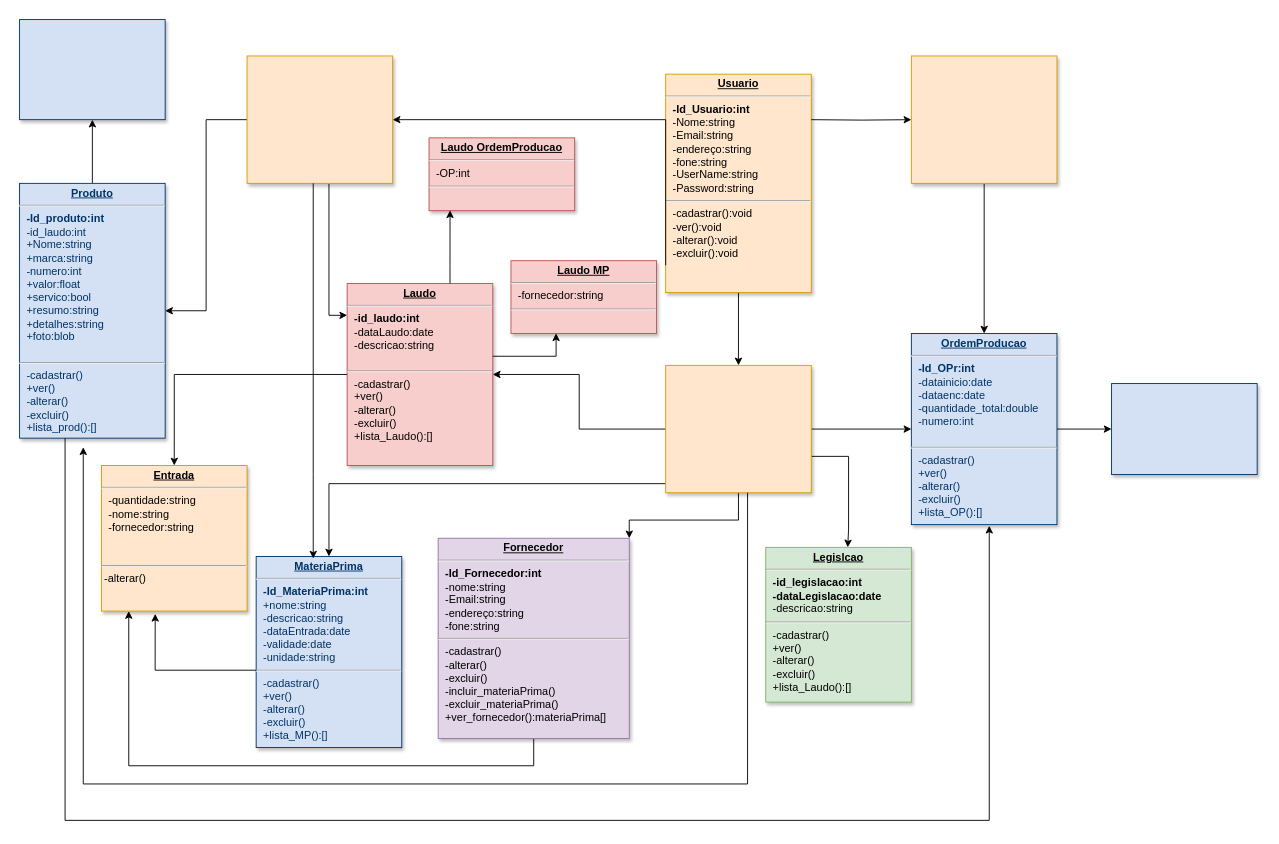
This 1279x844 diagram has some shape labels left out. The centre of each missing label's shape, as x and y in pixels:
"Gerente" goes at [739,430].
"Itens -materiaprima:string -quantidade:double -Proporcionar()" goes at [1185,430].
"Laboratório" goes at [320,120].
"Lista" goes at [93,70].
"Vendedor" goes at [984,120].
